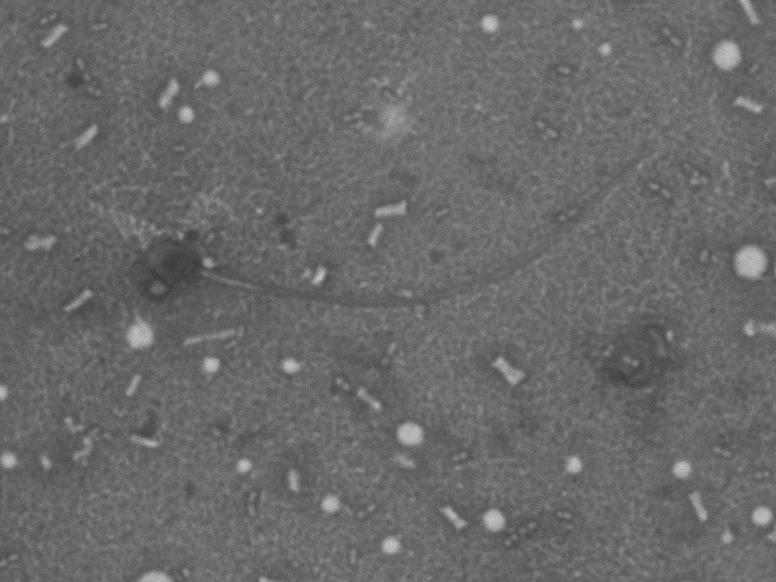Abnormal: (100, 120, 651, 331)
